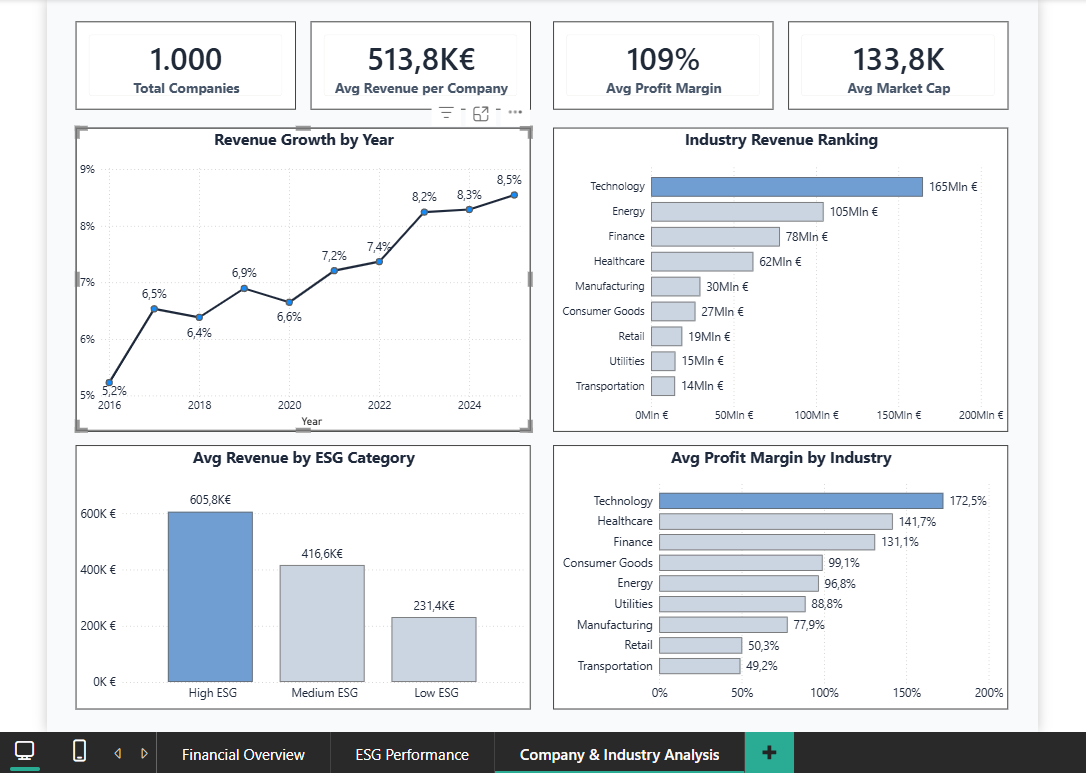

Layout of this report page (visuals, bound fields, positions):
{"tool":"powerbi","page":{"name":"Company & Industry Analysis","canvas":[1350,1000],"ordinal":2},"visuals":[{"type":"cardVisual","fields":{"Data":["Count(esg_financial_performance.Company ID)"]},"box":[40,30,300,120],"z":0},{"type":"cardVisual","fields":{"Data":["esg_financial_performance.Avg Revenue per Company"]},"box":[360,30,300,120.2],"z":1000},{"type":"cardVisual","fields":{"Data":["Avg(esg_financial_performance.Profit MArgin %)"]},"box":[690,30,300,120],"z":2000},{"type":"cardVisual","fields":{"Data":["Avg(esg_financial_performance.Market Cap)"]},"box":[1010,30,300,120],"z":3000},{"type":"lineChart","title":"Revenue Growth by Year","fields":{"Category":["esg_financial_performance.Year"],"Y":["esg_financial_performance.Revenue YoY %"]},"box":[39.2,175.5,620.3,414.1],"z":4000},{"type":"clusteredBarChart","title":"Industry Revenue Ranking","fields":{"Category":["esg_financial_performance.Industry"],"Y":["esg_financial_performance.Total Revenue"]},"box":[690.2,175.5,620.3,414.1],"z":5000},{"type":"clusteredColumnChart","title":"Avg Revenue by ESG Category","fields":{"Category":["esg_financial_performance.ESG Category"],"Y":["esg_financial_performance.Avg Revenue by ESG"]},"box":[38.9,608.9,620,360],"z":6000},{"type":"clusteredBarChart","title":"Avg Profit Margin by Industry","fields":{"Category":["esg_financial_performance.Industry"],"Y":["esg_financial_performance.Avg Profit Margin by Industry"]},"box":[690,609,620,360],"z":7000}]}

Visuals, with their boxes in screenshot pixels (x1, y1, x2, y2):
cardVisual - Count(esg_financial_performance.Company ID): [75, 16, 295, 105]
cardVisual - esg_financial_performance.Avg Revenue per Company: [310, 16, 530, 105]
cardVisual - Avg(esg_financial_performance.Profit MArgin %): [552, 16, 772, 105]
cardVisual - Avg(esg_financial_performance.Market Cap): [787, 16, 1007, 105]
"Revenue Growth by Year" lineChart: [74, 123, 530, 427]
"Industry Revenue Ranking" clusteredBarChart: [552, 123, 1008, 427]
"Avg Revenue by ESG Category" clusteredColumnChart: [74, 442, 529, 706]
"Avg Profit Margin by Industry" clusteredBarChart: [552, 442, 1007, 706]
